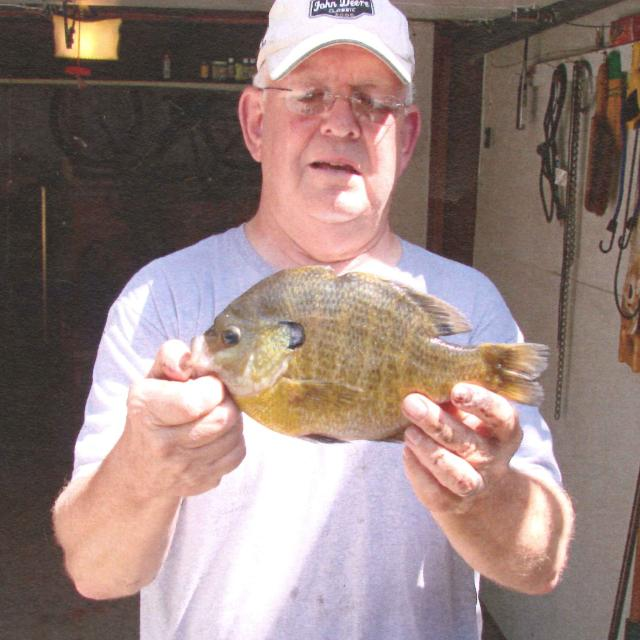Bluegill: (191, 265, 549, 442)
